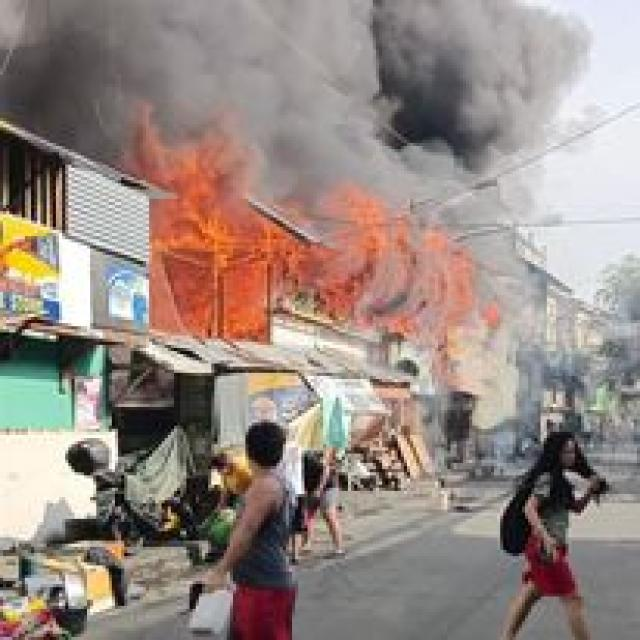Fire: (128, 111, 282, 346), (288, 189, 482, 367)
Smoke: (6, 0, 581, 199)
